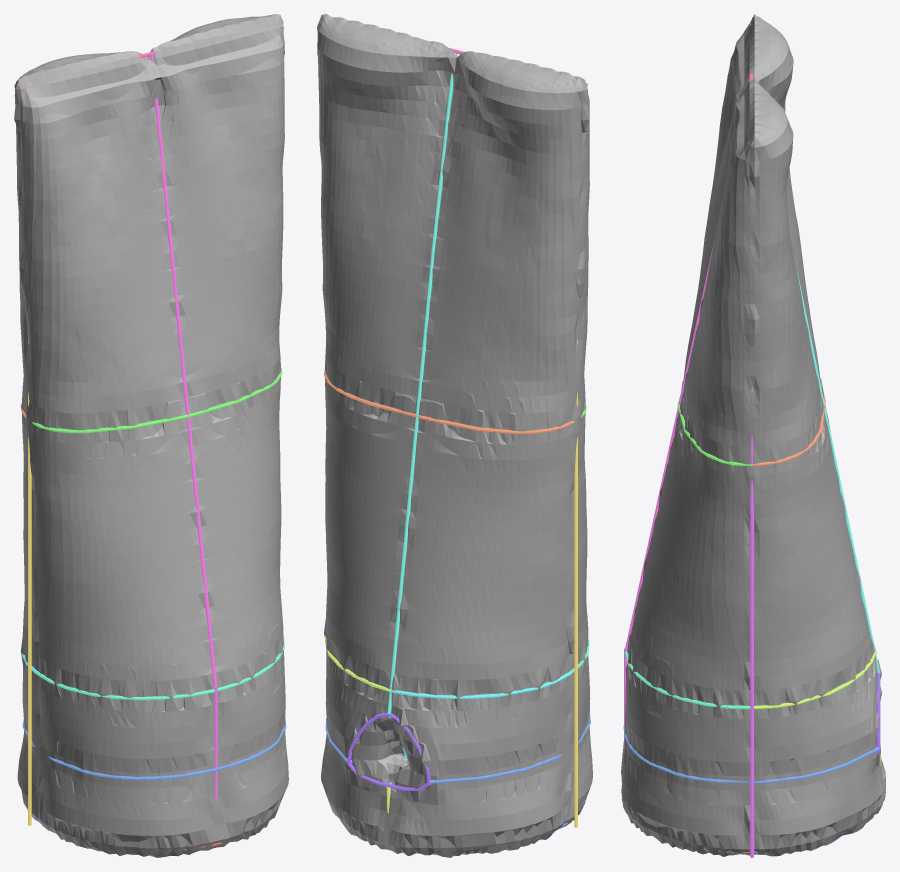
Rendered from t2f_toothpaste.gltf.
3 renders of one model, left to right at view 1: azimuth 30°, elevation 25°; view 2: azimuth 150°, elevation 25°; view 3: azimuth 270°, elevation 25°, orthographic. The views are drawn at different scales.
Bounding box in the file's own units: 0.3425 × 0.918 × 0.2992.
